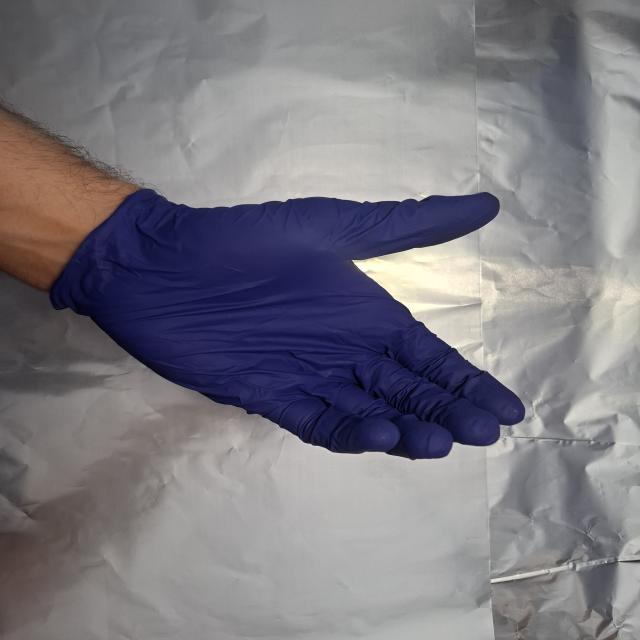glove_on: (53, 190, 531, 462)
